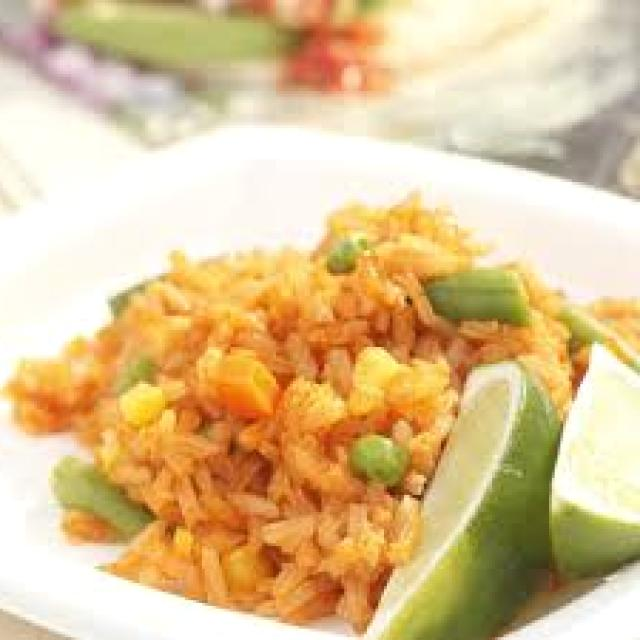organic: (130, 250, 583, 565), (343, 239, 636, 394)
